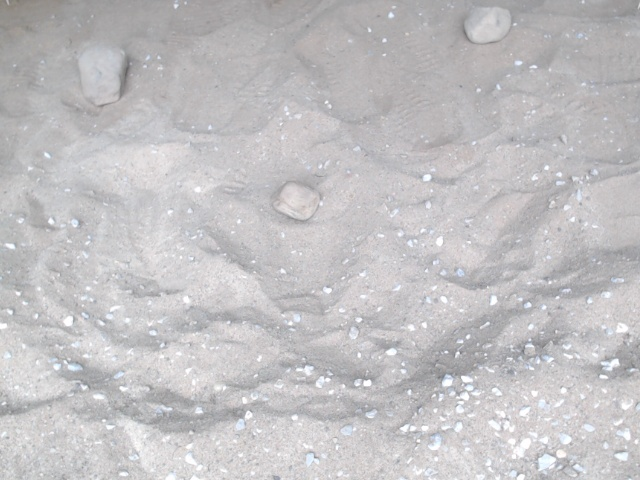rock: (74, 37, 132, 111), (268, 178, 324, 225), (459, 3, 515, 48)
